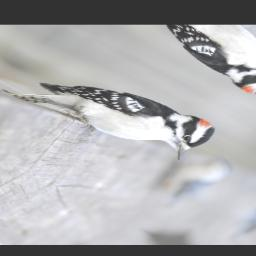Woodpecker: (0, 40, 237, 179)
